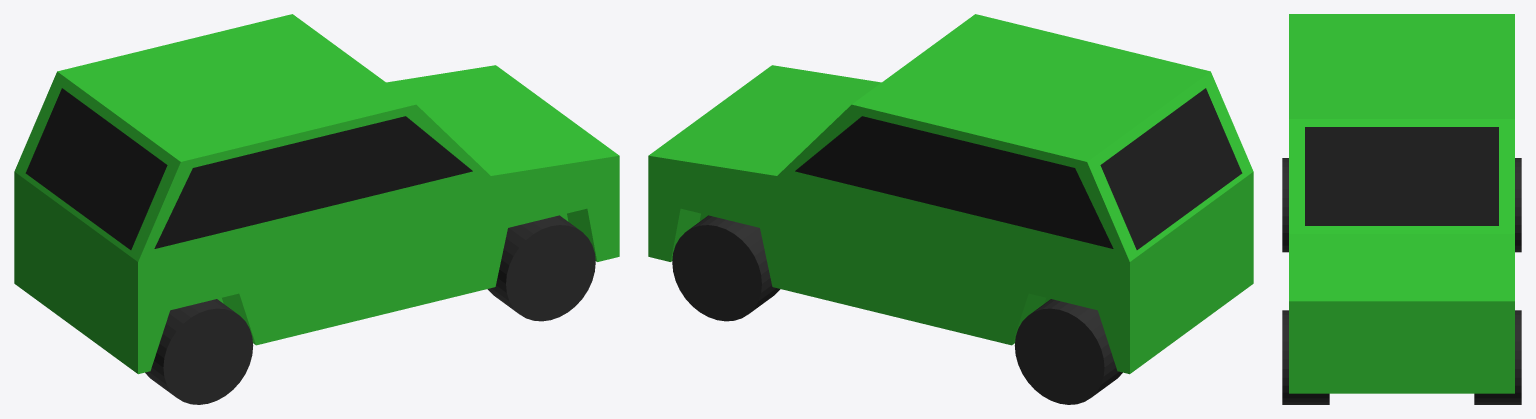
File: cargreen.glb
3 views of the same model, side by side, from view 1: azimuth 30°, elevation 25°; view 2: azimuth 150°, elevation 25°; view 3: azimuth 270°, elevation 25° (orthographic). The views are drawn at different scales.
Parts seen in each view (by area): view 1: car_green; view 2: car_green; view 3: car_green.
Part boxes in pixels (box(x1,y1,x2,y2)): car_green: box(14, 14, 619, 404); car_green: box(648, 14, 1253, 404); car_green: box(1282, 14, 1521, 404).
Size of the model in its own units: 4.49 by 2.18 by 2.12.
